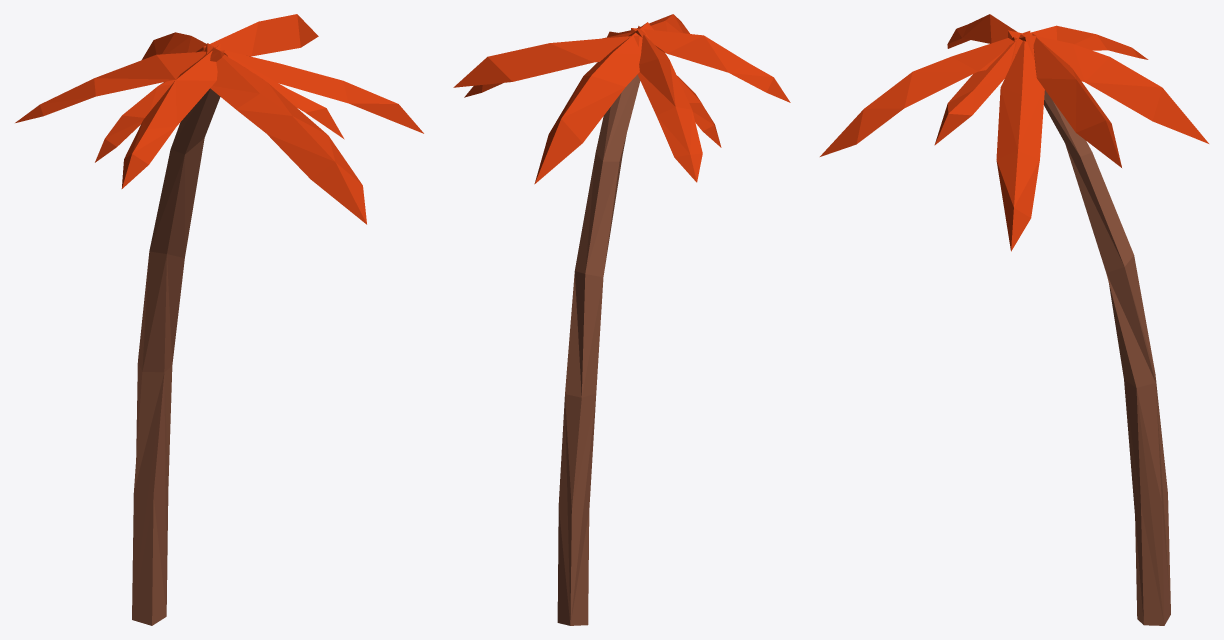
File: Tree_09_summer_red.fbx
3 renders of one model, left to right at view 1: azimuth 30°, elevation 25°; view 2: azimuth 150°, elevation 25°; view 3: azimuth 270°, elevation 25°, orthographic. The views are drawn at different scales.
Parts seen in each view (by area): view 1: Tree_09_summer_red; view 2: Tree_09_summer_red; view 3: Tree_09_summer_red.
Boxes of the visible parts, x1,y1,x2,y2 form: Tree_09_summer_red: [15, 14, 423, 625]; Tree_09_summer_red: [453, 14, 790, 625]; Tree_09_summer_red: [820, 14, 1208, 625].
Size of the model in its own units: 128 by 228 by 137.
